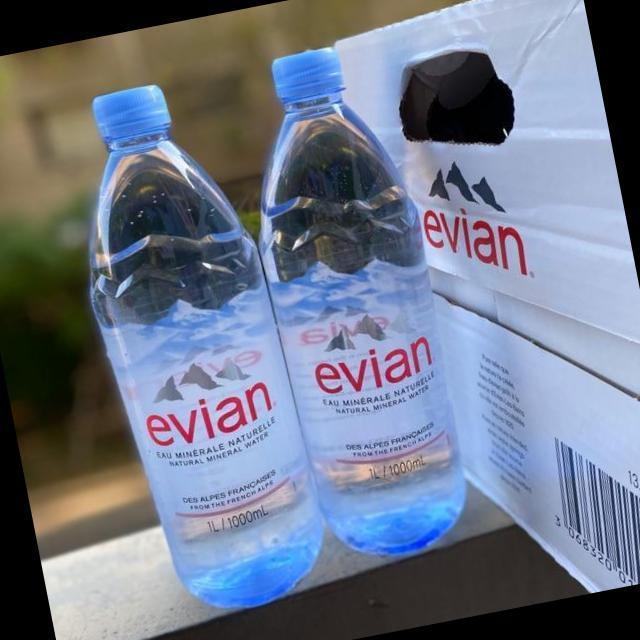plastic_bottle: (53, 66, 340, 627), (223, 38, 483, 572)
